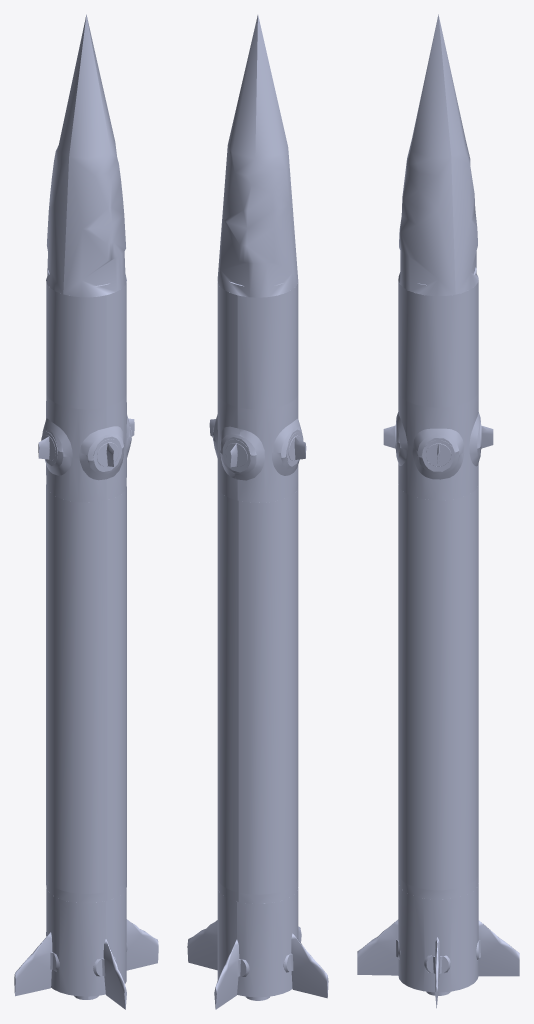
Rendered from rocket-assembly.glb.
3 renders of one model, left to right at view 1: azimuth 30°, elevation 25°; view 2: azimuth 150°, elevation 25°; view 3: azimuth 270°, elevation 25°, orthographic.
Visible parts, largest first — view 1: Lower Body Tube (3) (CFD), Nose Cone (CFD), Upper Body Tube (3) (CFD), Servo Fin Can (3) (CFD), Static Fin Can (3) (CFD), Airfoil Fin (CFD) (×3), Lower Bearing Mount (2) (CFD), Airfoil Canard (4) (CFD) (×2); view 2: Lower Body Tube (3) (CFD), Nose Cone (CFD), Upper Body Tube (3) (CFD), Servo Fin Can (3) (CFD), Static Fin Can (3) (CFD), Airfoil Fin (CFD) (×3), Lower Bearing Mount (2) (CFD), Airfoil Canard (4) (CFD) (×2); view 3: Lower Body Tube (3) (CFD), Nose Cone (CFD), Upper Body Tube (3) (CFD), Servo Fin Can (3) (CFD), Static Fin Can (3) (CFD), Airfoil Fin (CFD) (×3), Lower Bearing Mount (2) (CFD), Airfoil Canard (4) (CFD).
Part boxes in pixels (x1=…): Lower Body Tube (3) (CFD): x1=46, y1=484, x2=126, y2=893; Nose Cone (CFD): x1=46, y1=14, x2=126, y2=297; Upper Body Tube (3) (CFD): x1=46, y1=282, x2=126, y2=409; Servo Fin Can (3) (CFD): x1=42, y1=394, x2=131, y2=502; Static Fin Can (3) (CFD): x1=46, y1=888, x2=126, y2=996; Airfoil Fin (CFD) (×3): x1=14, y1=919, x2=158, y2=1009; Lower Bearing Mount (2) (CFD): x1=46, y1=876, x2=126, y2=903; Airfoil Canard (4) (CFD) (×2): x1=38, y1=435, x2=118, y2=466; Lower Body Tube (3) (CFD): x1=217, y1=486, x2=298, y2=894; Nose Cone (CFD): x1=217, y1=15, x2=298, y2=297; Upper Body Tube (3) (CFD): x1=217, y1=282, x2=298, y2=409; Servo Fin Can (3) (CFD): x1=212, y1=393, x2=303, y2=502; Static Fin Can (3) (CFD): x1=217, y1=887, x2=298, y2=997; Airfoil Fin (CFD) (×3): x1=187, y1=920, x2=328, y2=1009; Lower Bearing Mount (2) (CFD): x1=217, y1=878, x2=298, y2=903; Airfoil Canard (4) (CFD) (×2): x1=225, y1=435, x2=306, y2=467; Lower Body Tube (3) (CFD): x1=398, y1=484, x2=478, y2=890; Nose Cone (CFD): x1=398, y1=14, x2=478, y2=296; Upper Body Tube (3) (CFD): x1=398, y1=280, x2=478, y2=407; Servo Fin Can (3) (CFD): x1=396, y1=392, x2=480, y2=500; Static Fin Can (3) (CFD): x1=398, y1=883, x2=478, y2=992; Airfoil Fin (CFD) (×3): x1=357, y1=919, x2=519, y2=1008; Lower Bearing Mount (2) (CFD): x1=398, y1=874, x2=478, y2=899; Airfoil Canard (4) (CFD): x1=426, y1=443, x2=451, y2=466.
Bounding box in the file's own units: 159 × 1052 × 159.
